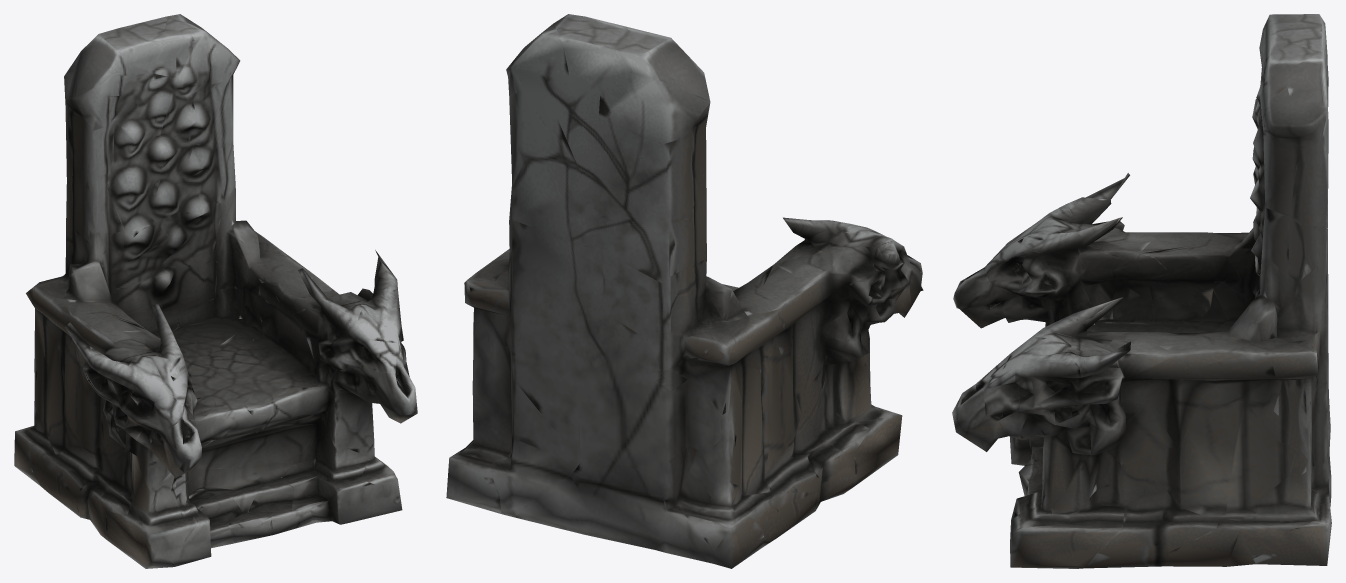
The model's file is throne_massive.glb.
3 renders of one model, left to right at view 1: azimuth 30°, elevation 25°; view 2: azimuth 150°, elevation 25°; view 3: azimuth 270°, elevation 25°, orthographic. The views are drawn at different scales.
Size of the model in its own units: 1.58 by 2 by 1.48.
Materials: 1 (1 with a texture image).
